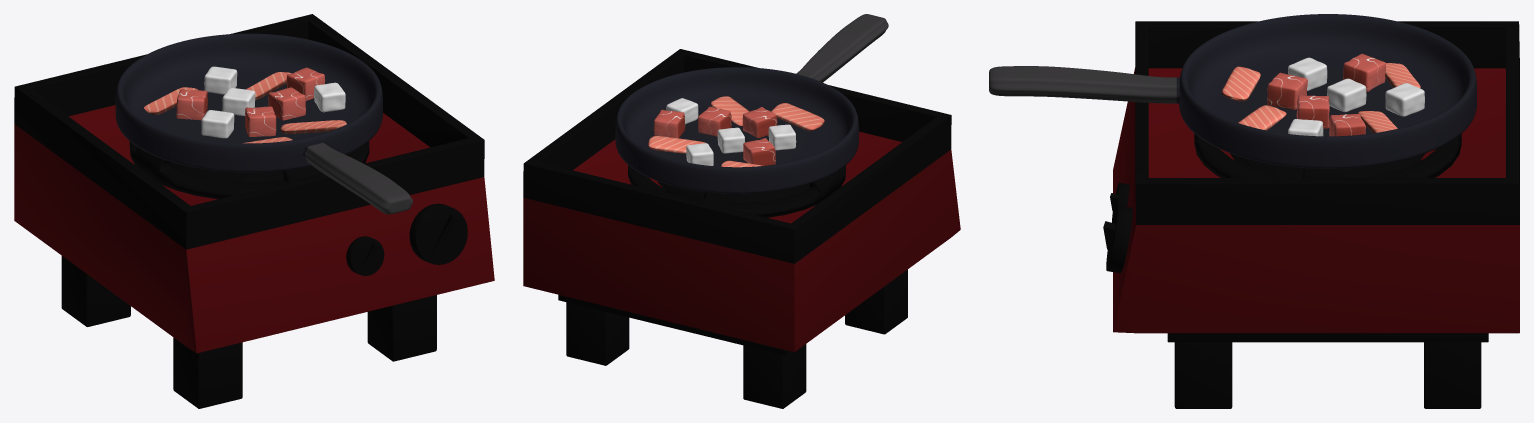
Rendered from stove_pan_isi.fbx.
3 views of the same model, side by side, from view 1: azimuth 30°, elevation 25°; view 2: azimuth 150°, elevation 25°; view 3: azimuth 270°, elevation 25° (orthographic). The views are drawn at different scales.
Visible parts, largest first — view 1: kompor.006, pan.001, kompor_kaki.003, kompor.005, komport_tombol.002, kompor_tombol.002, Cube.017, Cube.020, Cube.015, tahu.003, tahu.001, Cube.009 (+5 smaller); view 2: kompor.006, pan.001, kompor_kaki.003, kompor.005, Cube.014, Cube.020, Cube.009, Cube.017, Cube.015, Cube.019, tahu.002, tahu.003 (+3 smaller); view 3: kompor.006, pan.001, kompor_kaki.003, kompor.005, komport_tombol.002, Cube.020, Cube.015, tahu.004, tahu.002, Cube.014, Cube.017, tahu.003 (+5 smaller).
Boxes of the visible parts, x1,y1,x2,y2 form: kompor.006: (14, 14, 494, 353); pan.001: (115, 33, 412, 214); kompor_kaki.003: (61, 256, 436, 408); kompor.005: (129, 141, 369, 199); komport_tombol.002: (409, 203, 467, 264); kompor_tombol.002: (346, 236, 384, 275); Cube.017: (268, 87, 305, 120); Cube.020: (245, 106, 276, 136); Cube.015: (176, 89, 208, 120); tahu.003: (201, 110, 234, 138); tahu.001: (314, 82, 345, 112); Cube.009: (286, 67, 325, 100); kompor.006: (523, 49, 960, 355); pan.001: (615, 14, 888, 193); kompor_kaki.003: (566, 269, 907, 408); kompor.005: (628, 165, 845, 217); Cube.014: (771, 103, 824, 130); Cube.020: (742, 107, 777, 138); Cube.009: (653, 109, 685, 138); Cube.017: (698, 106, 731, 136); Cube.015: (743, 138, 775, 165); Cube.019: (648, 136, 706, 153); tahu.002: (717, 127, 744, 153); tahu.003: (768, 124, 796, 150); kompor.006: (1113, 21, 1519, 342); pan.001: (989, 14, 1476, 168); kompor_kaki.003: (1174, 342, 1481, 408); kompor.005: (1194, 133, 1461, 177); komport_tombol.002: (1103, 205, 1132, 273); Cube.020: (1267, 72, 1307, 109); Cube.015: (1343, 53, 1385, 91); tahu.004: (1385, 83, 1424, 116); tahu.002: (1327, 78, 1366, 112); Cube.014: (1221, 66, 1260, 101); Cube.017: (1296, 95, 1329, 128); tahu.003: (1288, 57, 1327, 90).
Bounding box in the file's own units: 100 × 78.21 × 138.
Materials: 8 (2 with a texture image).
